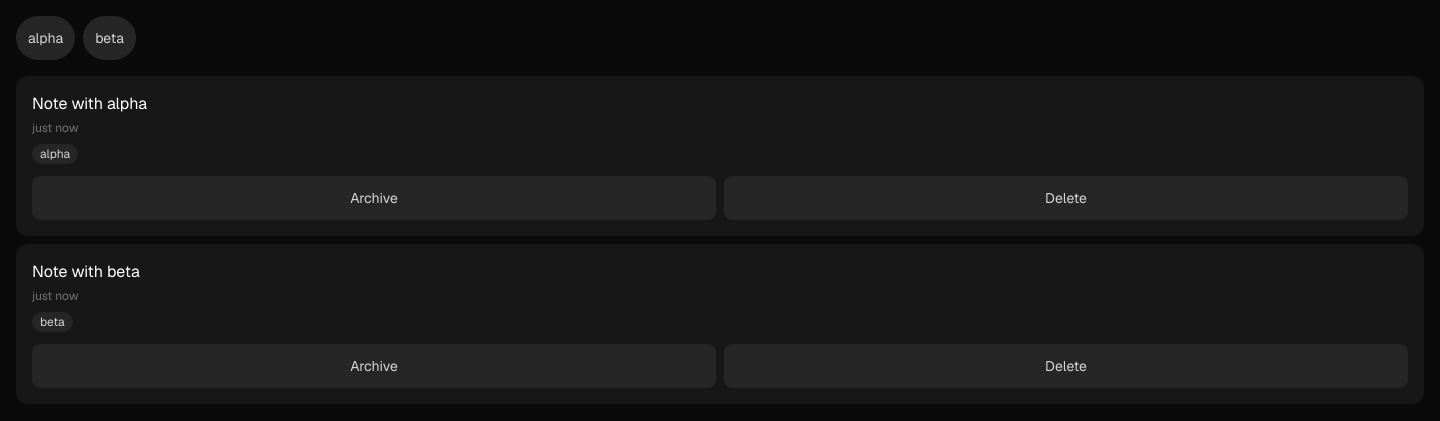
NotesView › filters notes when a tag chip is clicked
Expected: the text "Note with alpha" is shown, [32, 93, 147, 114]
Expected: the text "Note with beta" is shown, [32, 261, 140, 282]
Click the 'alpha' filter chip (the button with aria-pressed)
Click the button "alpha".
click(46, 38)  # box [16, 16, 75, 60]
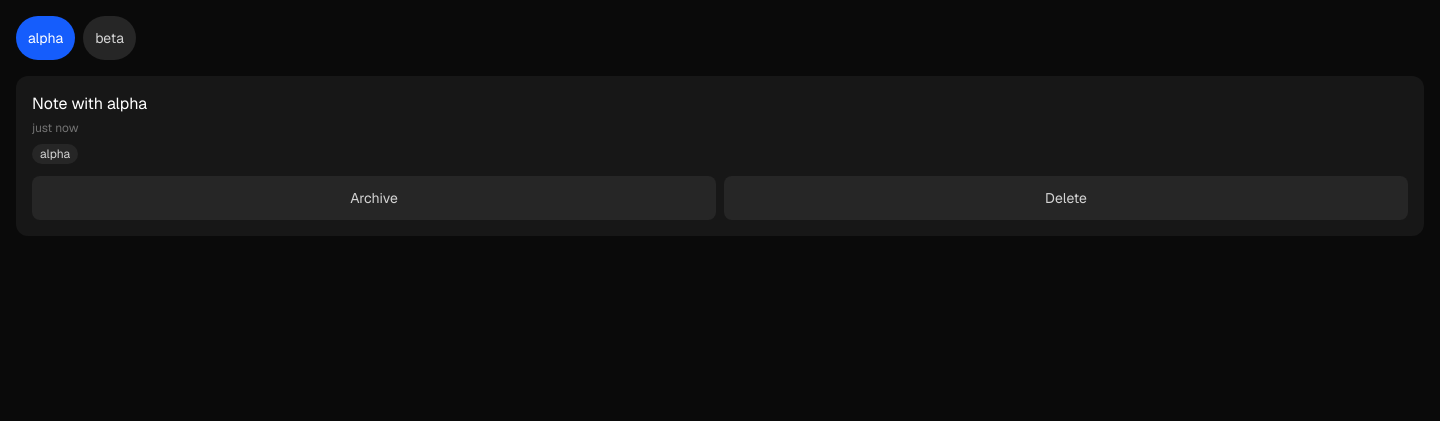
Expected: the text "Note with alpha" is shown, [32, 93, 147, 114]
Now the button "Note with beta" is gone
